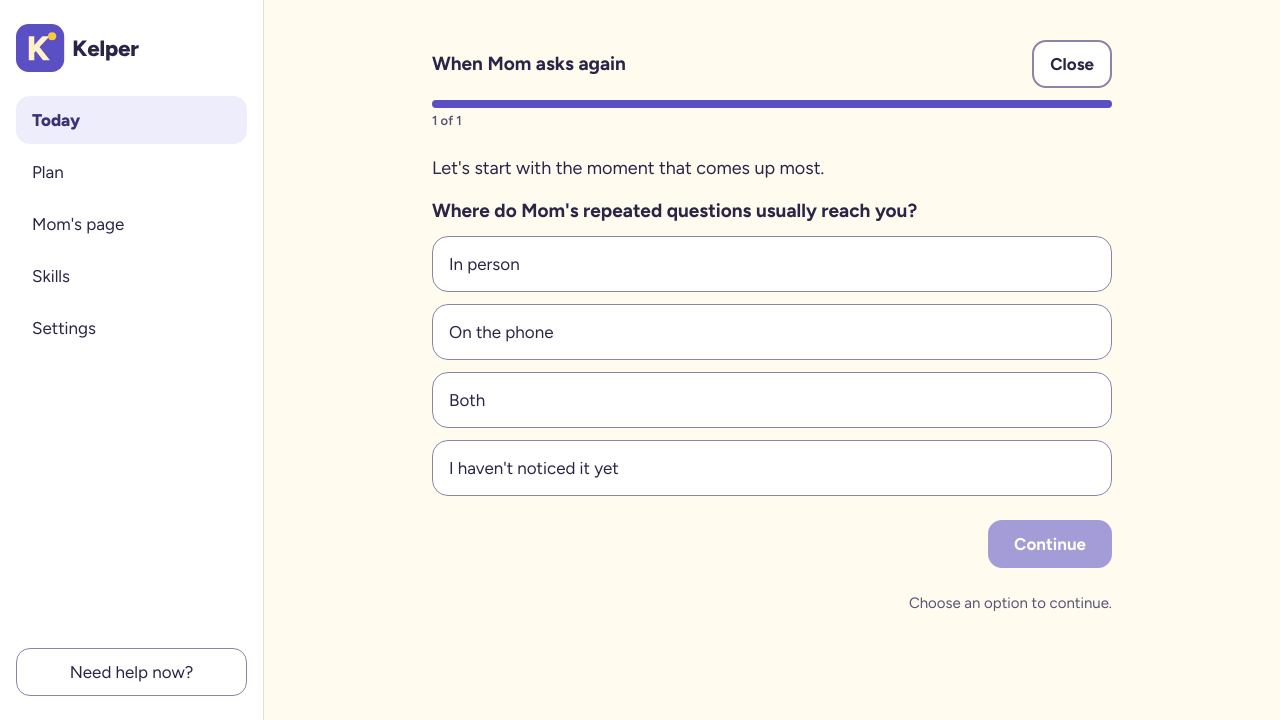
lesson player › shows scenario feedback with a verdict label, never 'Wrong', and lets another answer be tried
Expected: the heading "When Mom asks again" is shown, left=432, top=51, right=626, bottom=77
Step 1. Click the radio button labelled "Both" → (467, 400), box left=432, top=372, right=1112, bottom=428
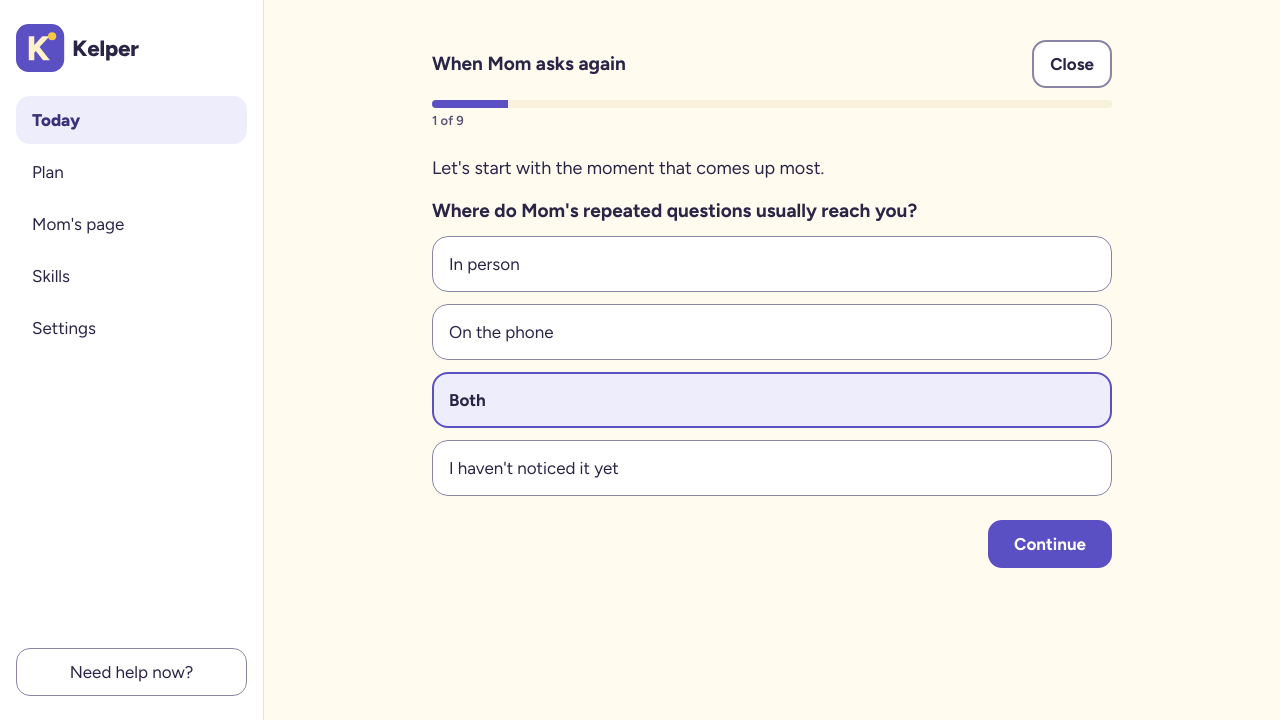
Result: the progress indicator named "Lesson progress" has attribute aria-valuemax="9" at left=432, top=100, right=1112, bottom=108
Step 2. Click the button "Continue" → (1050, 544), box left=988, top=520, right=1112, bottom=568
(page scrolled)
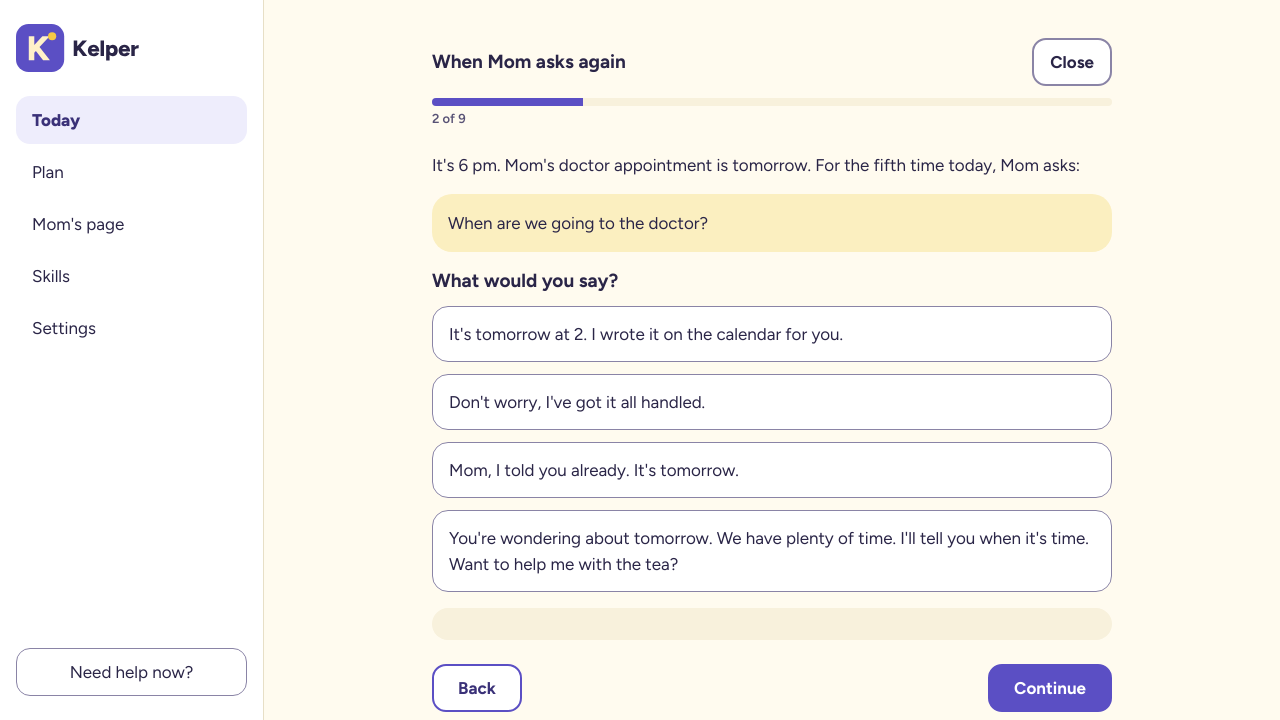
Step 3. Click the radio button labelled "Mom, I told you already. It's tomorrow." → (594, 470), box left=432, top=442, right=1112, bottom=498
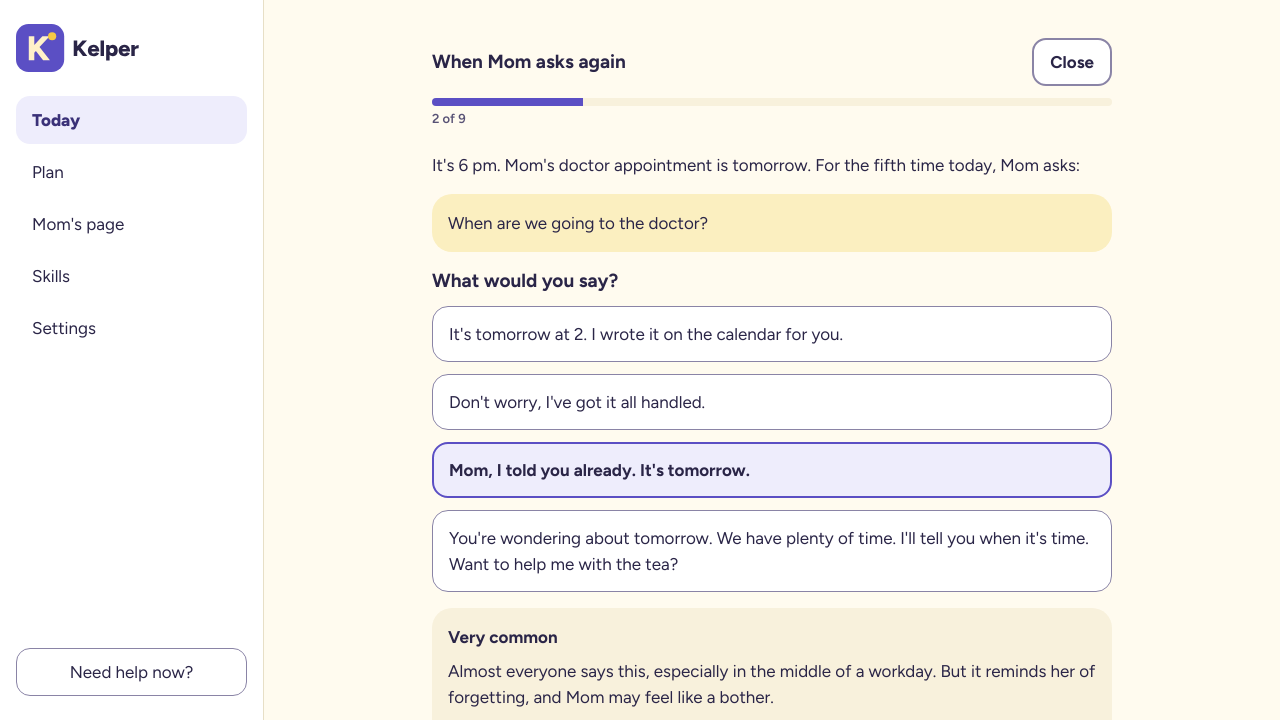
Result: the text "Very common" is shown at left=448, top=627, right=558, bottom=647
Step 4. Click the radio button labelled "You're wondering about tomorrow" → (772, 551), box left=432, top=510, right=1112, bottom=592
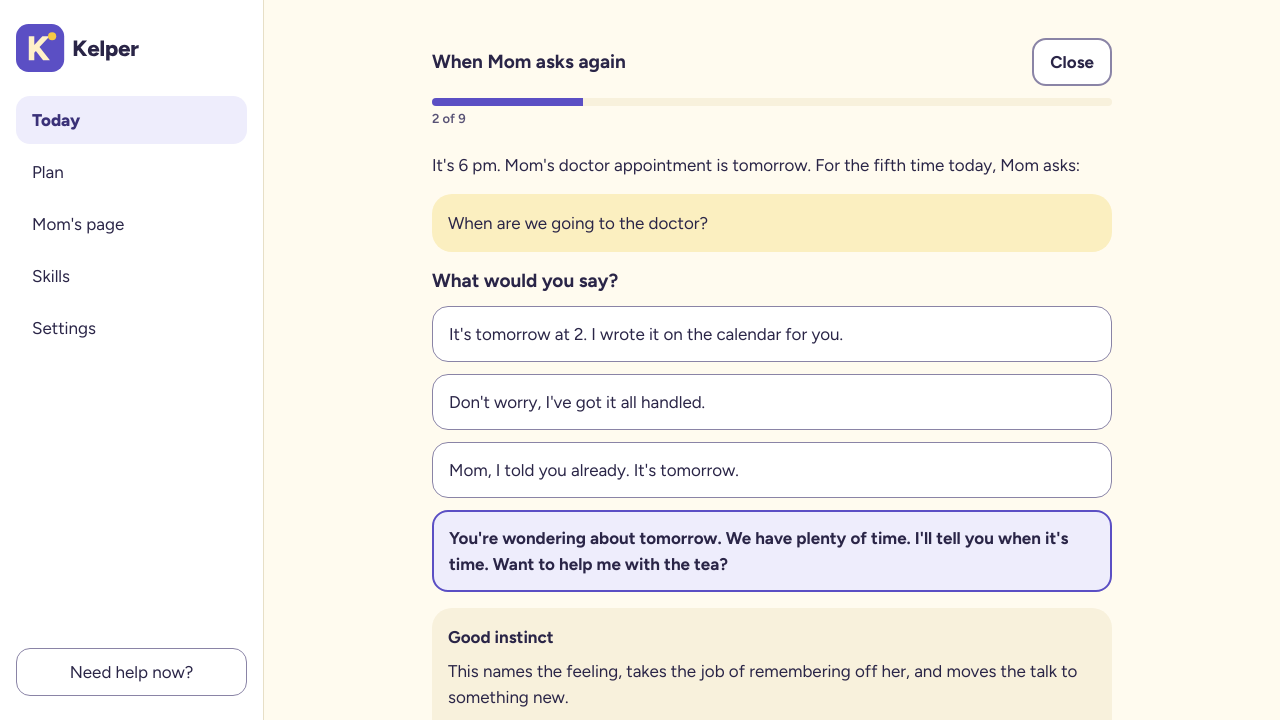
Result: the text "Good instinct" is shown at left=448, top=627, right=554, bottom=647
